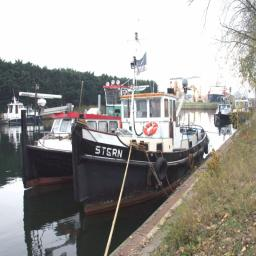tugboat: (70, 19, 211, 221)
